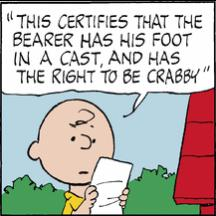charlie: (24, 97, 134, 215)
